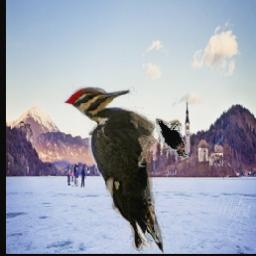Crow: (157, 120, 190, 158)
Woodpecker: (64, 85, 165, 254)
